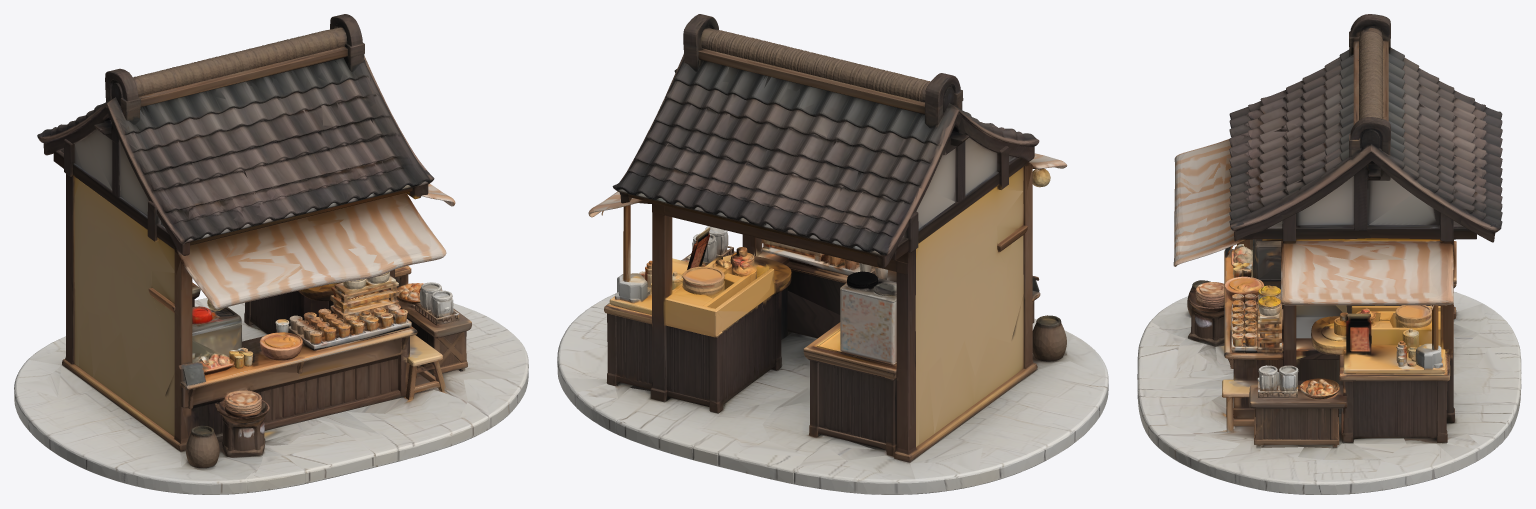
The model's file is asian food vendor.obj.
3 renders of one model, left to right at view 1: azimuth 30°, elevation 25°; view 2: azimuth 150°, elevation 25°; view 3: azimuth 270°, elevation 25°, orthographic. The views are drawn at different scales.
Parts seen in each view (by area): view 1: material; view 2: material; view 3: material.
Part boxes in pixels (x1,y1,x2,y2): material: (14,14,528,494); material: (557,14,1108,494); material: (1137,14,1521,494).
Size of the model in its own units: 0.9815 by 0.6916 by 0.7637.
1 material, 1 textured.
